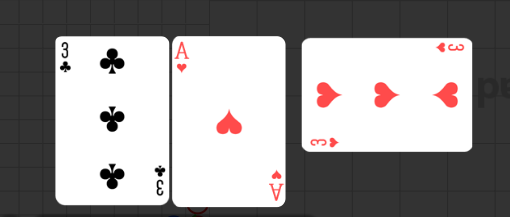3C: (59, 41, 73, 76)
3H: (435, 43, 467, 55)
AH: (175, 41, 192, 76)
